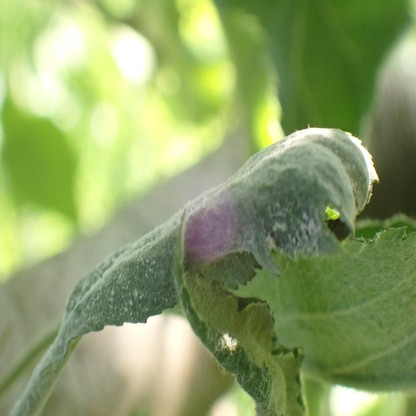powdery_mildew: (66, 127, 378, 327), (302, 228, 416, 392)
